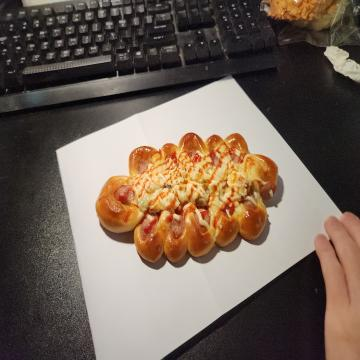pizza_bread: (96, 127, 280, 268)
